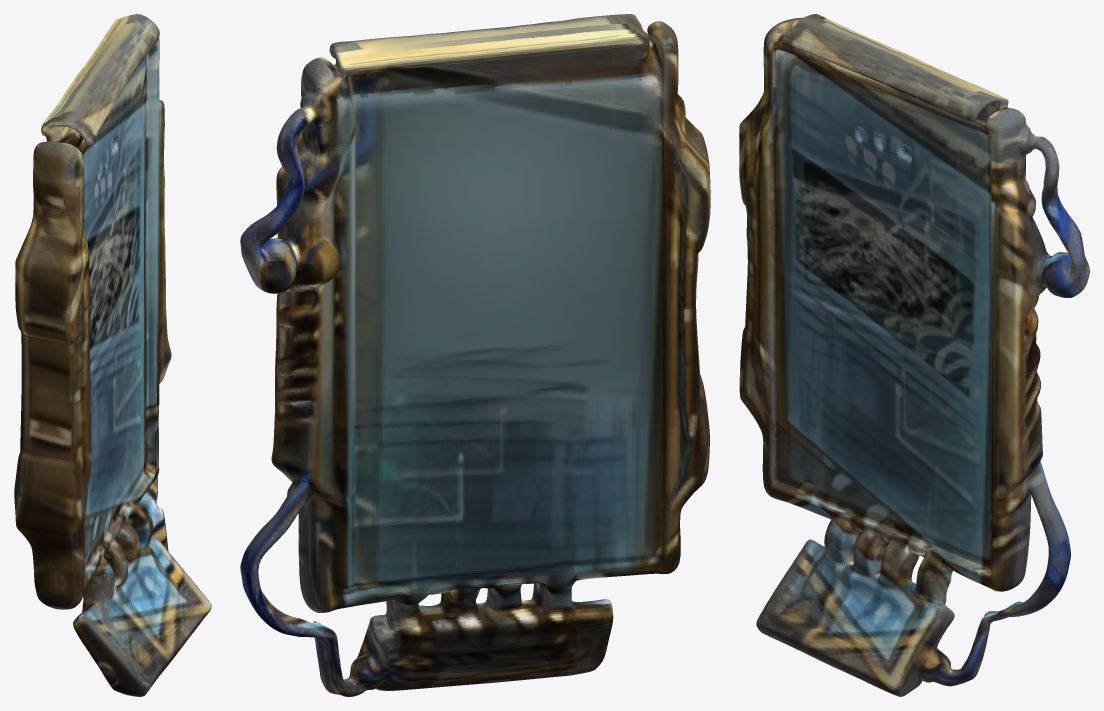
Rendered from path_to_progress.glb.
3 renders of one model, left to right at view 1: azimuth 30°, elevation 25°; view 2: azimuth 150°, elevation 25°; view 3: azimuth 270°, elevation 25°, orthographic. The views are drawn at different scales.
Bounding box in the file's own units: 0.9719 × 2 × 1.08.
1 material, 1 textured.
